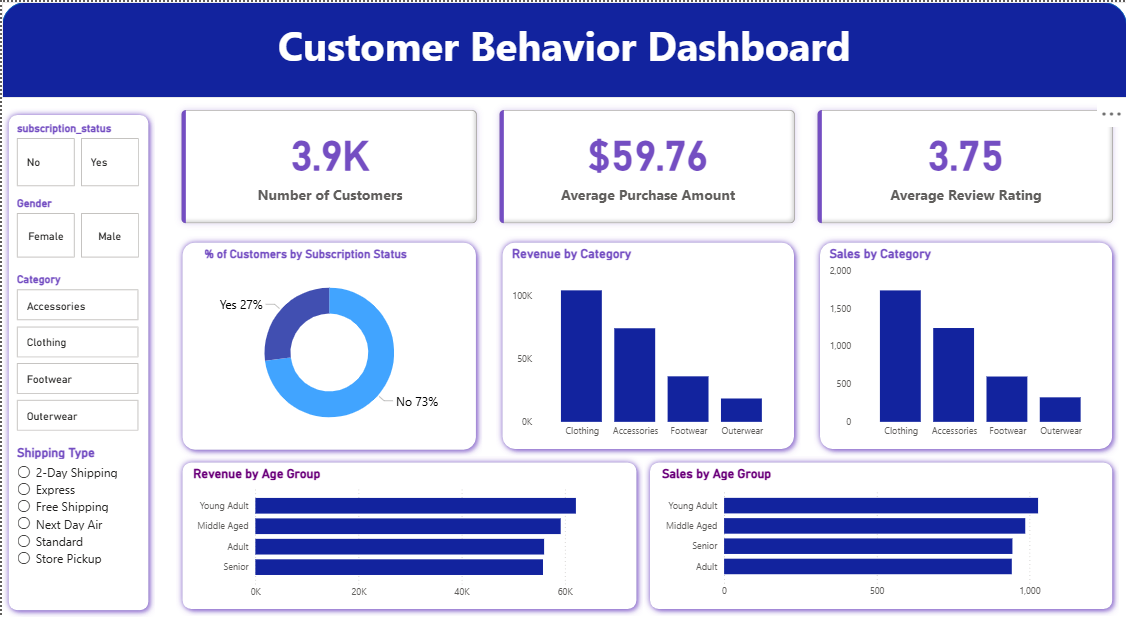

The page's visual inventory and layout, read from the dashboard file:
{"tool":"powerbi","page":{"name":"Page 1","canvas":[1500,820],"ordinal":0},"visuals":[{"type":"cardVisual","fields":{"Data":["public customer.Number of Customers","public customer.Average Purchase Amount","public customer.Average Review Rating"]},"box":[223.3,128.3,1276.7,183.3],"z":0},{"type":"shape","box":[0,0,1500,128.3],"z":1000},{"type":"textbox","box":[261.7,16.7,976.7,95],"z":2000},{"type":"shape","box":[231.7,310.8,409.2,294.2],"z":3000},{"type":"donutChart","title":"% of Customers by Subscription Status","fields":{"Y":["CountNonNull(public customer.customer_id)"],"Category":["public customer.subscription_status"]},"box":[265,326.7,343.3,264.2],"z":4000},{"type":"shape","box":[1080.8,311.7,407.5,293.3],"z":5000},{"type":"shape","box":[658.3,311.7,406.7,293.3],"z":6000},{"type":"clusteredColumnChart","title":"Revenue by Category","fields":{"Y":["Sum(public customer.purchase_amount)"],"Category":["public customer.category"]},"box":[675,325,374.2,265],"z":7000},{"type":"clusteredColumnChart","title":"Sales by Category","fields":{"Y":["CountNonNull(public customer.customer_id)"],"Category":["public customer.category"]},"box":[1097.5,325,375.8,265],"z":8000},{"type":"shape","box":[0,141.7,204.2,678.3],"z":9000},{"type":"advancedSlicerVisual","fields":{"Values":["public customer.subscription_status"]},"box":[15,160,173.3,91.7],"z":10000},{"type":"advancedSlicerVisual","title":"Gender","fields":{"Values":["public customer.gender"]},"box":[14.2,260,173.3,85.8],"z":11000},{"type":"advancedSlicerVisual","title":"Category","fields":{"Values":["public customer.category"]},"box":[15.5,361.8,172.7,216.4],"z":12000},{"type":"listSlicer","fields":{"Values":["public customer.shipping_type"]},"box":[15.5,590,166.4,214.5],"z":12001},{"type":"shape","box":[231.1,605.6,623.3,213.3],"z":12002},{"type":"clusteredBarChart","title":"Revenue by Age Group","fields":{"Y":["Sum(public customer.purchase_amount)"],"Category":["public customer.age_group"]},"box":[250,618.9,584.4,186.7],"z":12003},{"type":"shape","box":[854.4,605.6,634.4,213.3],"z":12004},{"type":"clusteredBarChart","title":"Sales by Age Group","fields":{"Y":["CountNonNull(public customer.customer_id)"],"Category":["public customer.age_group"]},"box":[874.4,618.9,596.7,185.6],"z":12005}]}

Visuals, with their boxes in screenshot pixels (x1, y1, x2, y2), scaled from the page's 1500x820 canvas onto the 1126x617 screenshot:
cardVisual - public customer.Number of Customers x public customer.Average Purchase Amount: BBox(168, 97, 1125, 234)
shape: BBox(0, 0, 1125, 97)
textbox: BBox(196, 13, 930, 84)
shape: BBox(174, 234, 481, 455)
"% of Customers by Subscription Status" donutChart: BBox(199, 246, 457, 445)
shape: BBox(811, 235, 1117, 455)
shape: BBox(494, 235, 799, 455)
"Revenue by Category" clusteredColumnChart: BBox(507, 245, 788, 444)
"Sales by Category" clusteredColumnChart: BBox(824, 245, 1106, 444)
shape: BBox(0, 107, 153, 616)
advancedSlicerVisual - public customer.subscription_status: BBox(11, 120, 141, 189)
"Gender" advancedSlicerVisual: BBox(11, 196, 141, 260)
"Category" advancedSlicerVisual: BBox(12, 272, 141, 435)
listSlicer - public customer.shipping_type: BBox(12, 444, 137, 605)
shape: BBox(173, 456, 641, 616)
"Revenue by Age Group" clusteredBarChart: BBox(188, 466, 626, 606)
shape: BBox(641, 456, 1118, 616)
"Sales by Age Group" clusteredBarChart: BBox(656, 466, 1104, 605)
